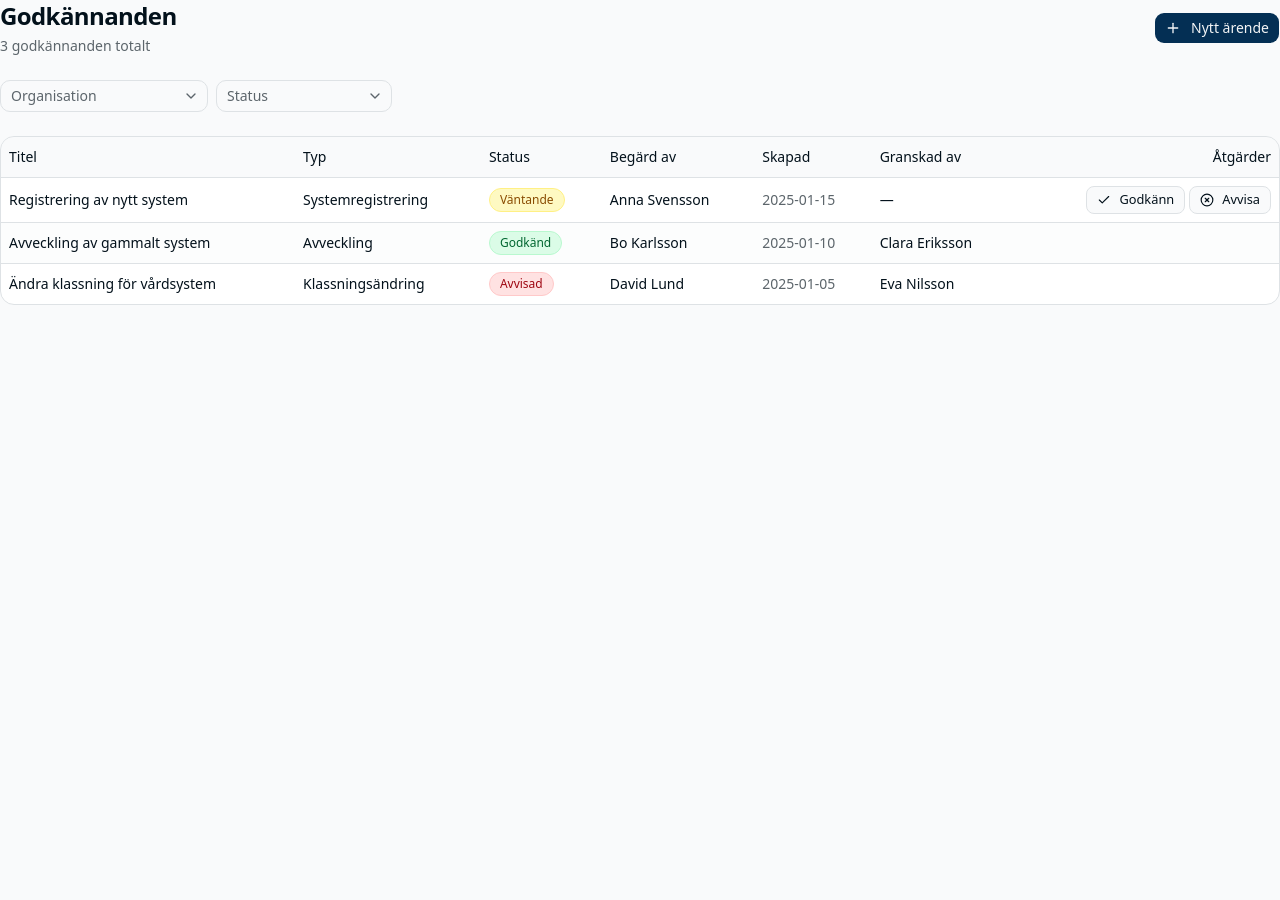
Test: ApprovalsPage › klick på Godkänn öppnar granskningsdialog
This screenshot has width=1280, height=900.
Click the button "Godkänn": [1136, 200] box [1086,186,1185,214]
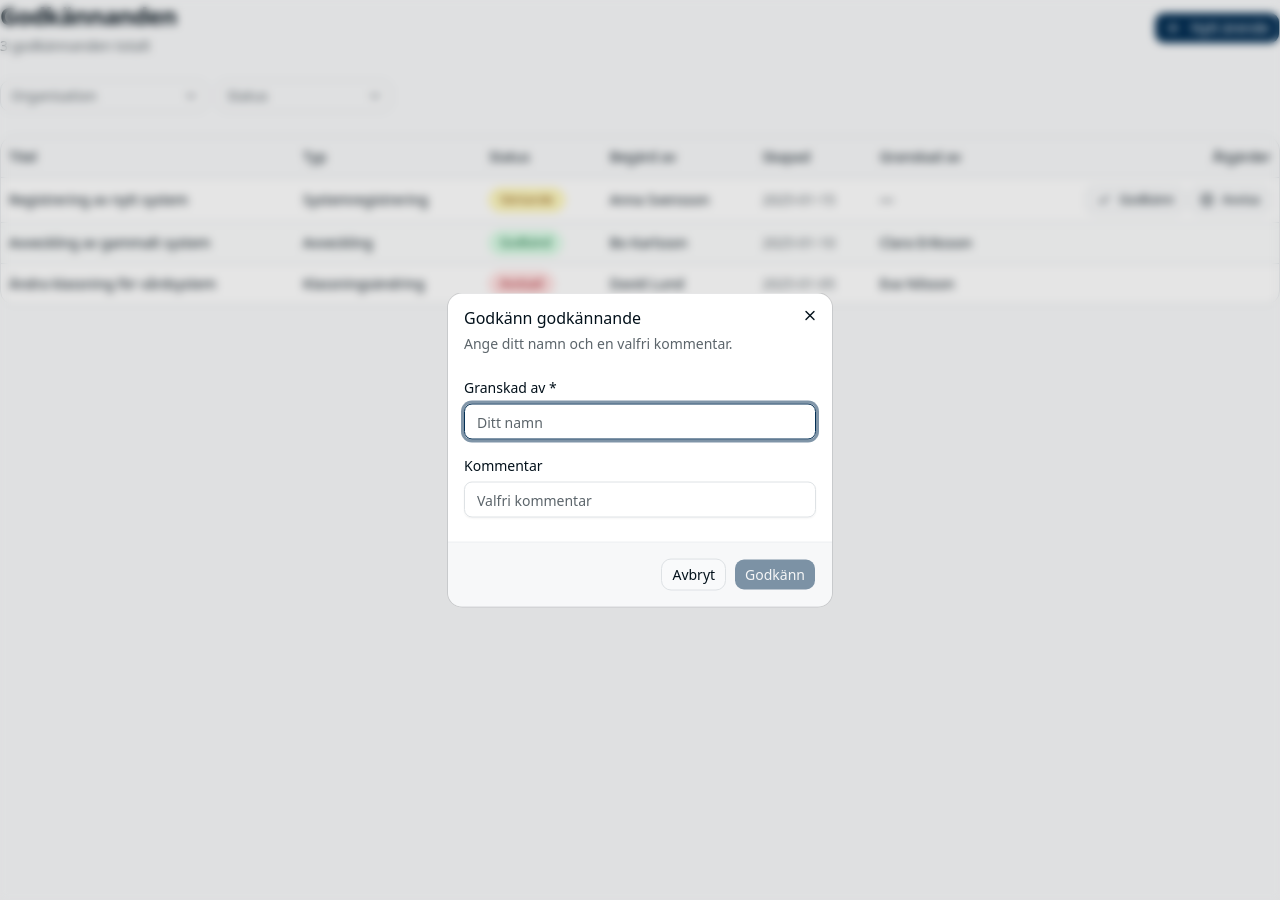
Expected: the text "Ange ditt namn och en valfri kommentar." is shown, [464,334,733,352]
